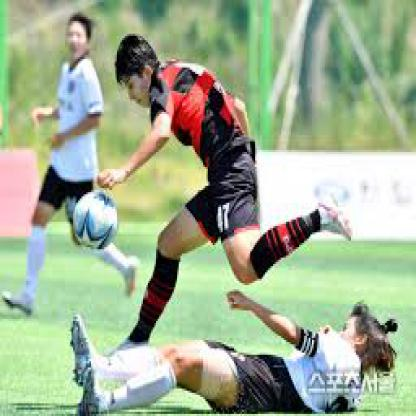Fall_Down: (73, 291, 391, 413)
